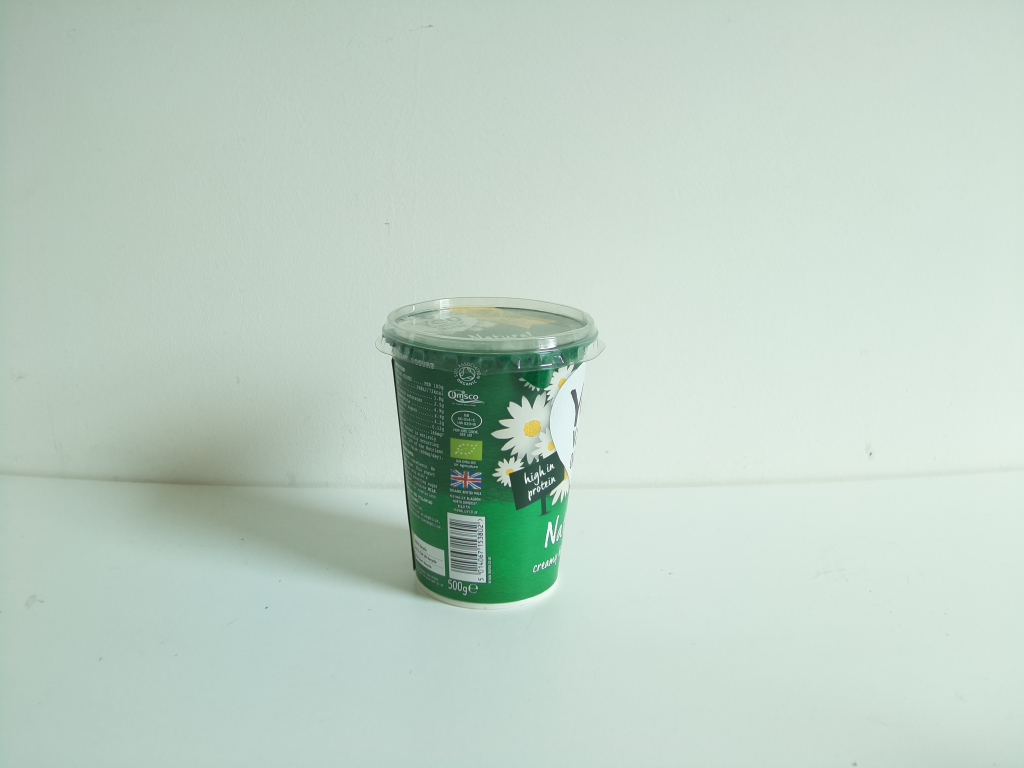yogurt: (370, 291, 608, 614)
